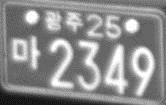2: (48, 36, 75, 90), (85, 12, 103, 38)
3: (77, 38, 101, 92)
4: (104, 43, 129, 95)
5: (104, 13, 122, 40)
9: (131, 45, 156, 98)
광주_O: (44, 9, 83, 32)
마: (10, 33, 41, 71)
